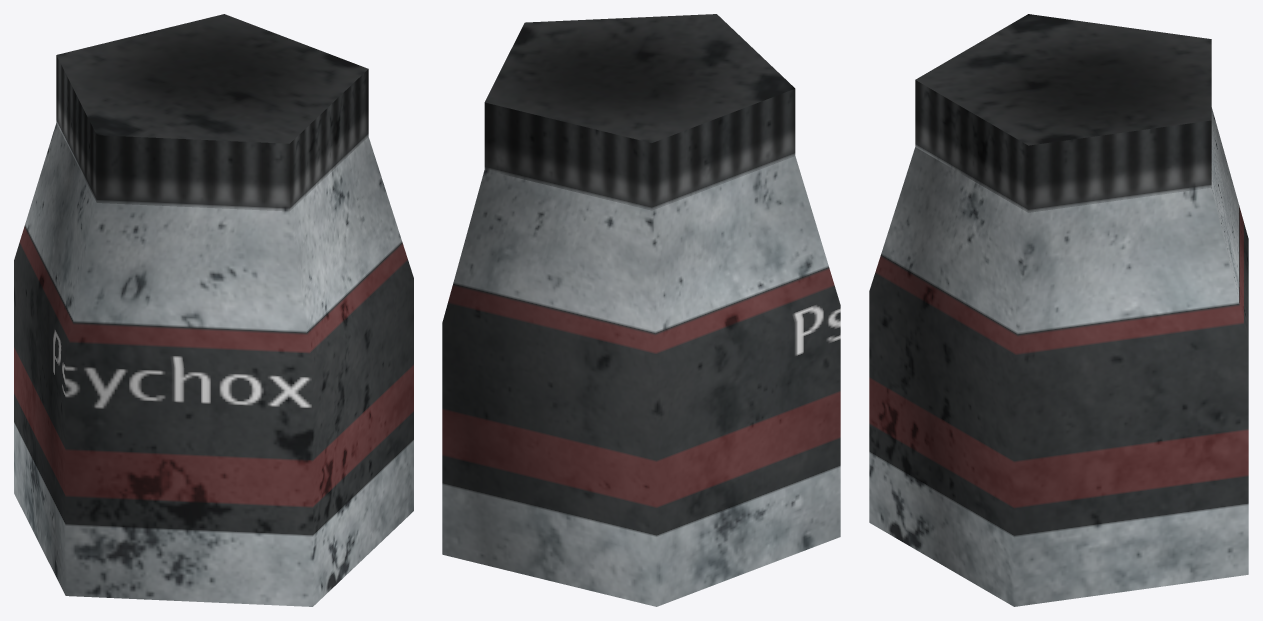
File: medicine_small_D.fbx
The picture shows the model from 3 angles, left to right: view 1: azimuth 30°, elevation 25°; view 2: azimuth 150°, elevation 25°; view 3: azimuth 270°, elevation 25°; orthographic projection.
Parts seen in each view (by area): view 1: medicine_small_D; view 2: medicine_small_D; view 3: medicine_small_D.
Boxes of the visible parts, left/top/right/bottom form: medicine_small_D: left=14, top=14, right=413, bottom=606; medicine_small_D: left=442, top=14, right=840, bottom=606; medicine_small_D: left=869, top=14, right=1248, bottom=606.
Bounding box in the file's own units: 8.57 × 10.49 × 8.15.
